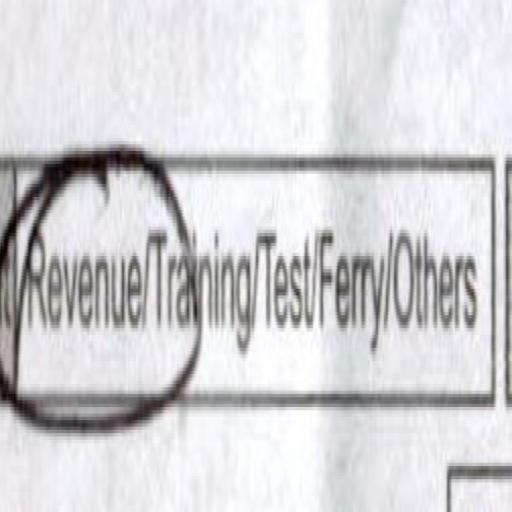check: (11, 44, 141, 512), (148, 49, 252, 512)
